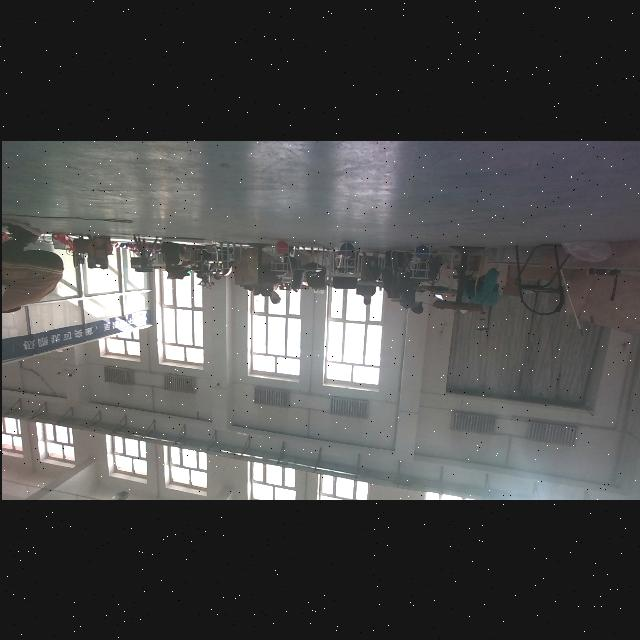B: (412, 244, 430, 262), (338, 242, 354, 258)
R: (273, 240, 287, 253)
S: (405, 242, 437, 280), (332, 238, 360, 278), (266, 236, 292, 274), (212, 234, 236, 272)
